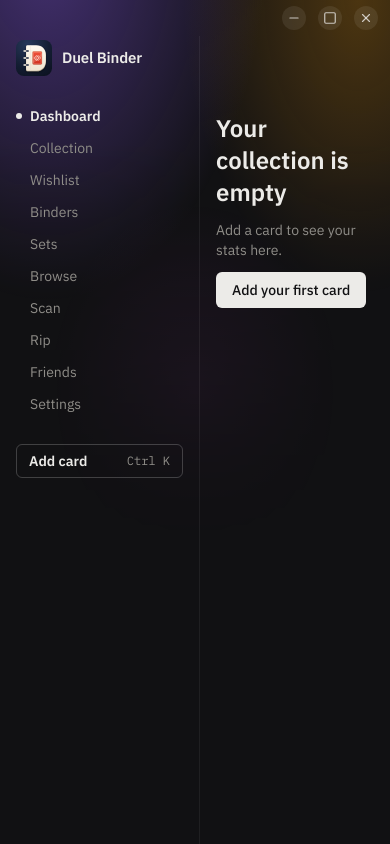
Scenario: AppShell rip nav › opens the Rip page from the nav
The image size is (390, 844).
expect the navigation bar named "Main" is shown: met, box [16,100,183,420]
Click the button "Rip" at (100, 340), box [16,324,183,356]
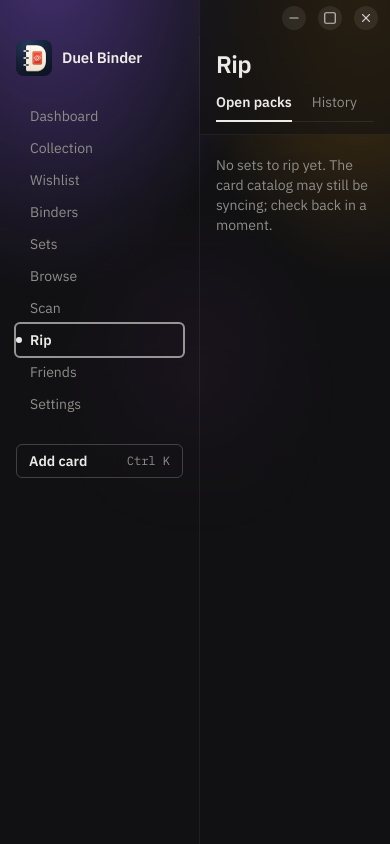
expect the heading "Rip" is shown: met, box [216,48,251,80]
